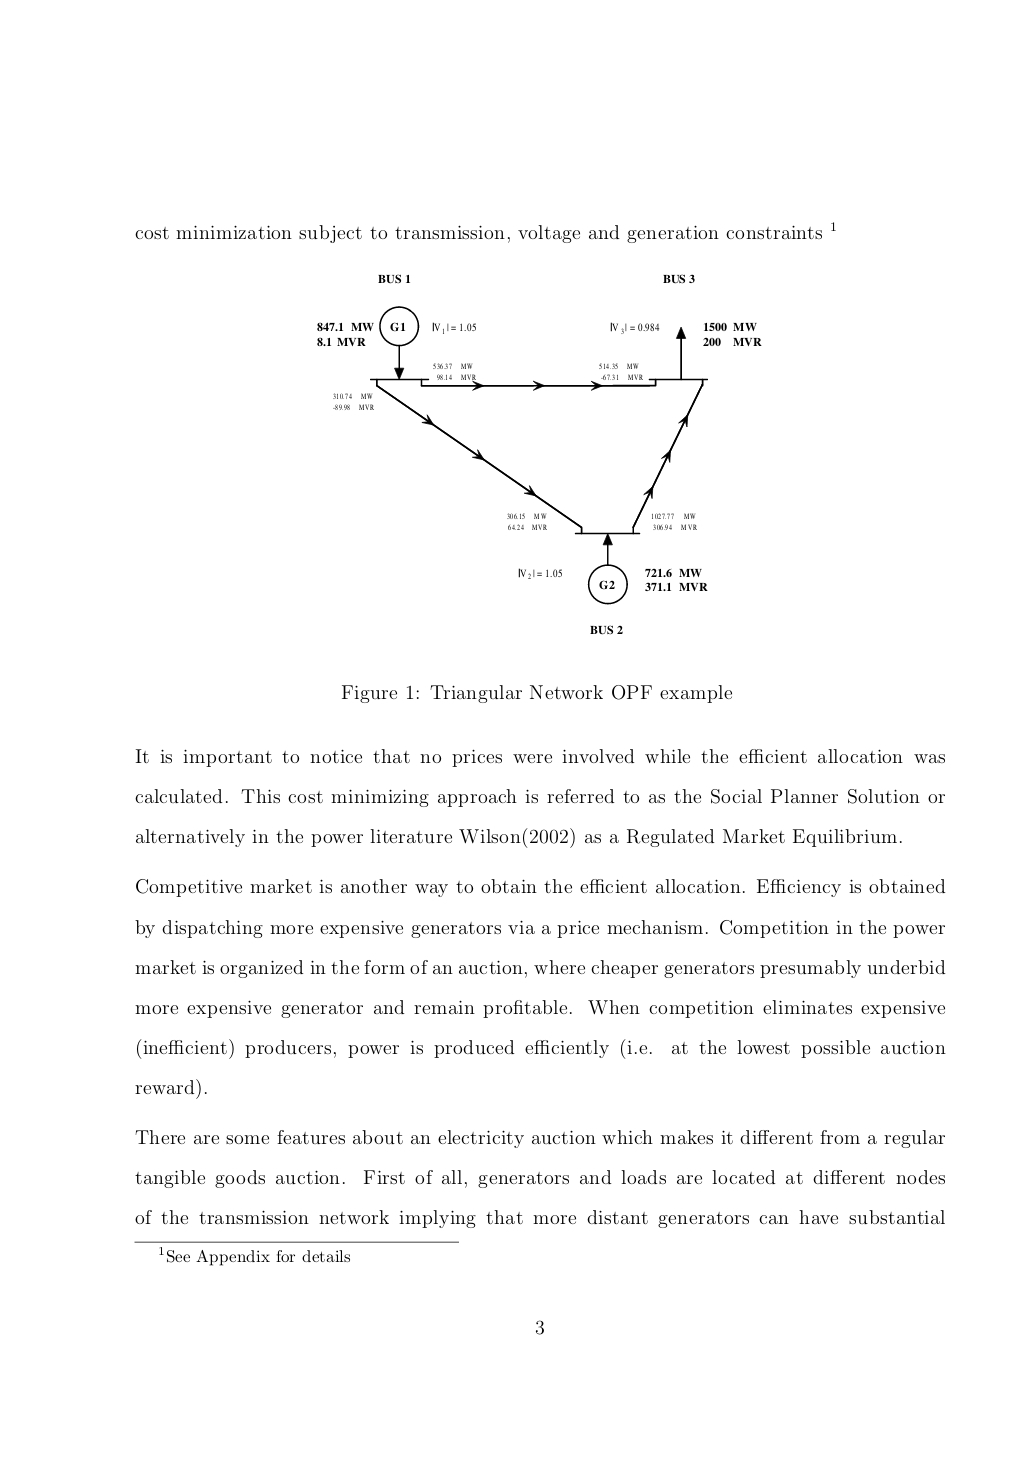figure: (317, 305, 761, 605)
